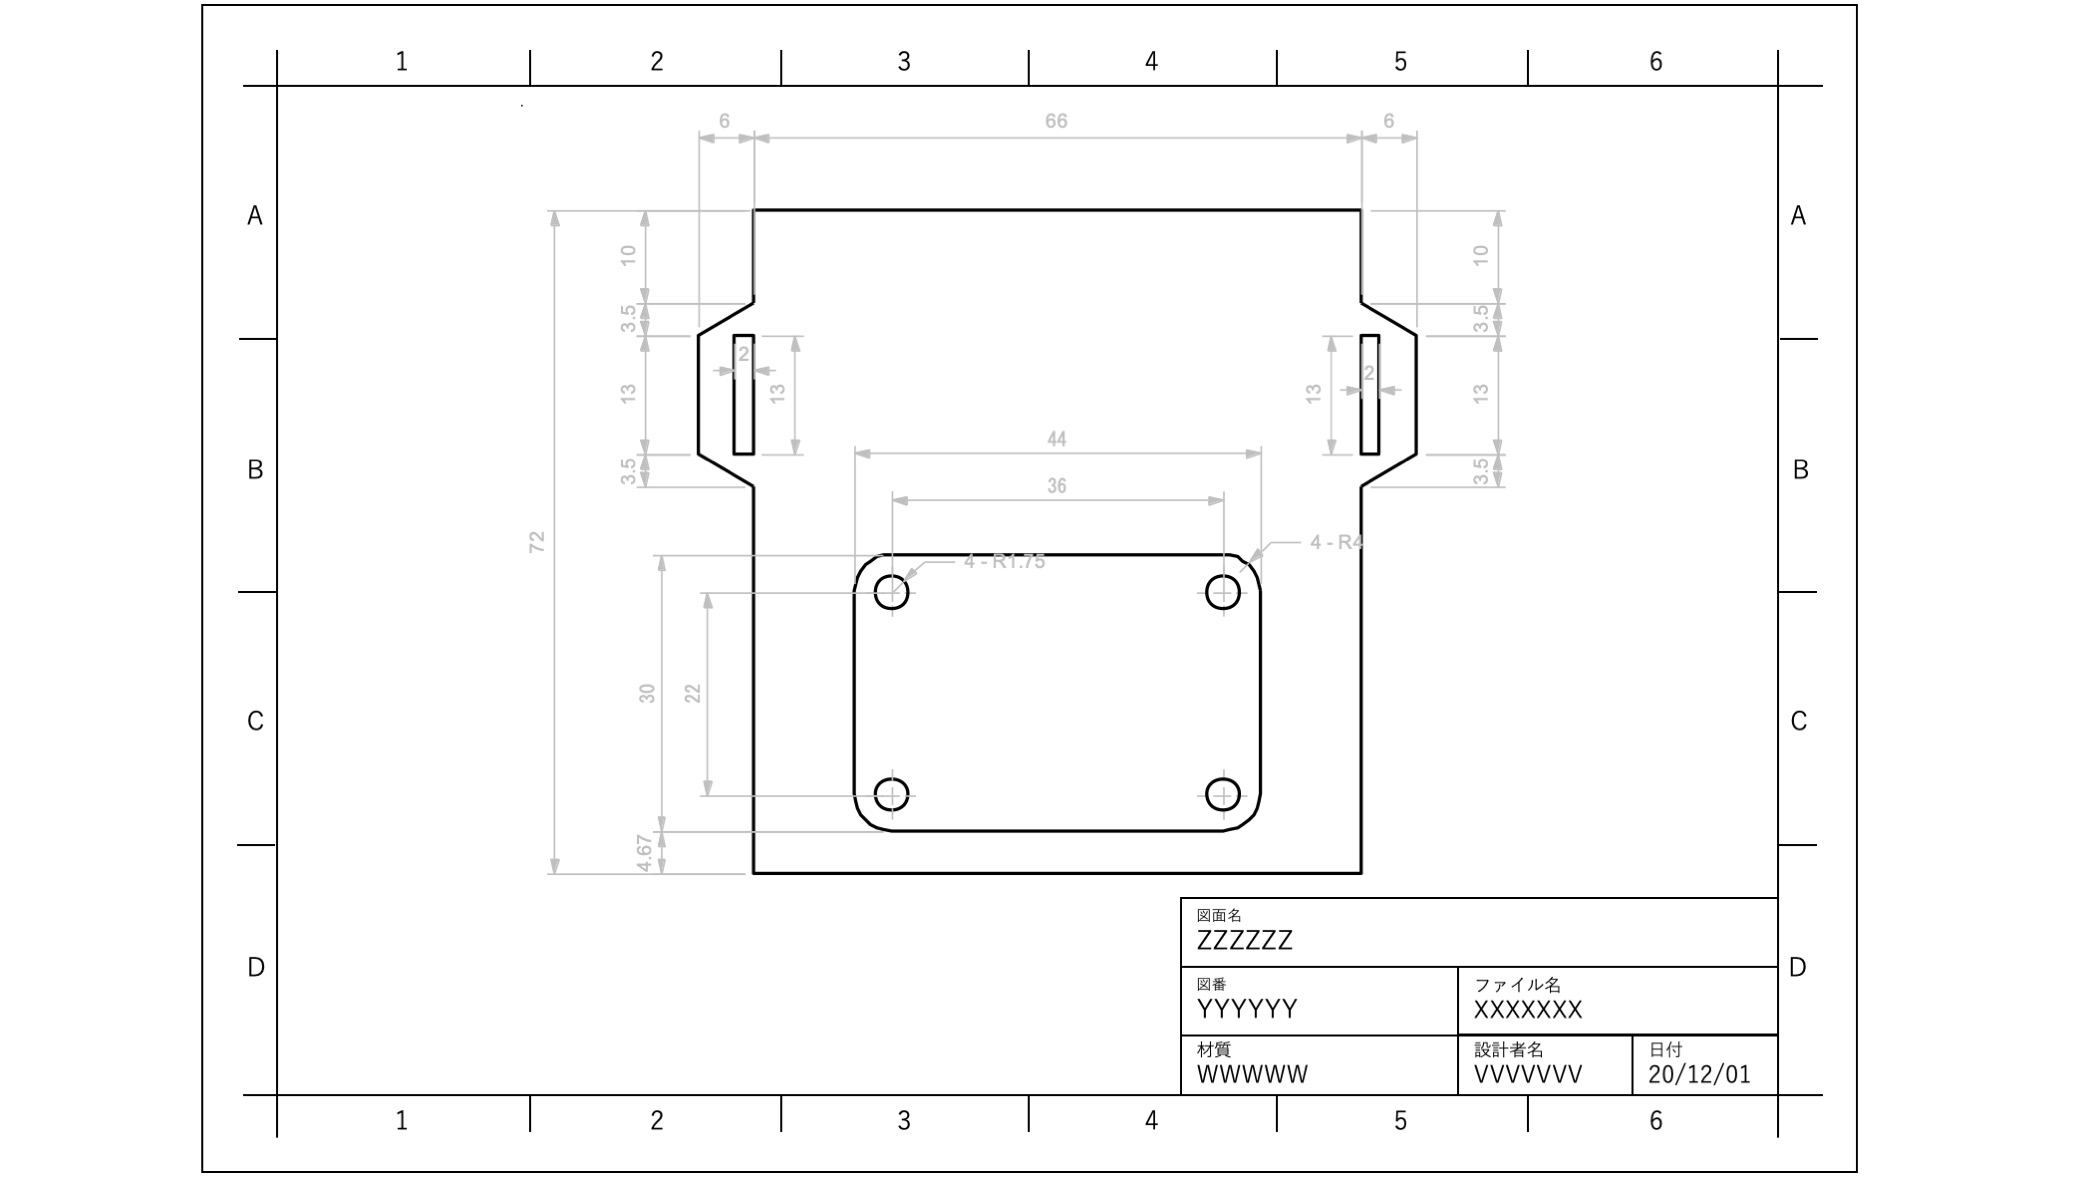circle: (865, 567, 923, 614), (1196, 568, 1242, 616), (873, 769, 917, 818), (1204, 771, 1243, 812)
rectangle: (1347, 327, 1395, 459), (720, 320, 762, 464)
